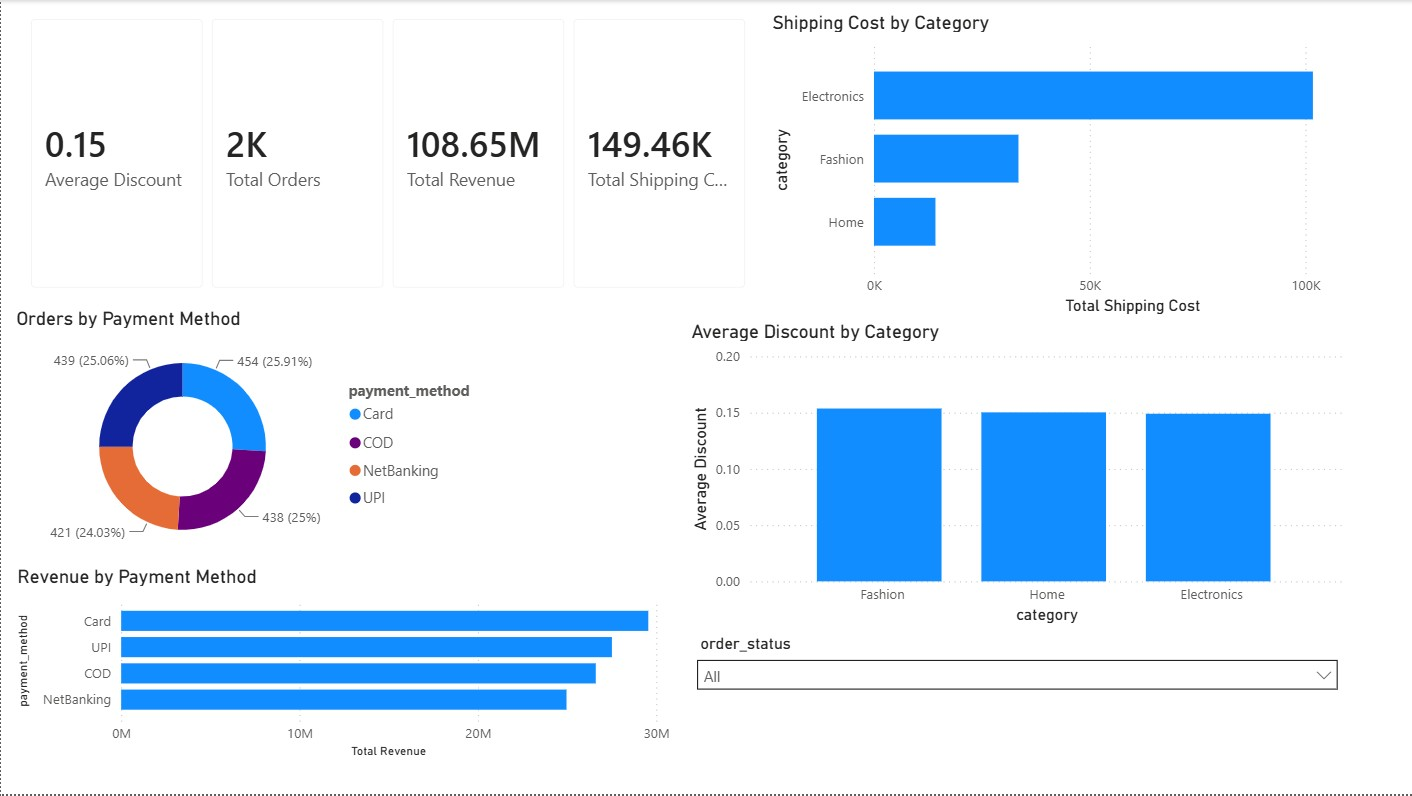

This screenshot's page, from the dashboard's own definition file:
{"tool":"powerbi","page":{"name":"Operations Analysis","canvas":[1280,720],"ordinal":3},"visuals":[{"type":"cardVisual","fields":{"Data":["ecommerce_dw dim_customers.Average Discount","ecommerce_dw dim_customers.Total Orders","ecommerce_dw dim_customers.Total Revenue","ecommerce_dw dim_customers.Total Shipping Cost"]},"box":[9.7,0,684.7,278.2],"z":0},{"type":"donutChart","title":"Orders by Payment Method","fields":{"Y":["ecommerce_dw dim_customers.Total Orders"],"Series":["ecommerce_dw fact_orders.payment_method"]},"box":[9.1,278.4,437.1,234],"z":1},{"type":"clusteredBarChart","title":"Revenue by Payment Method","fields":{"Y":["ecommerce_dw dim_customers.Total Revenue"],"Category":["ecommerce_dw fact_orders.payment_method"]},"box":[10,512.3,601.2,179.5],"z":2},{"type":"clusteredBarChart","title":"Shipping Cost by Category","fields":{"Y":["ecommerce_dw dim_customers.Total Shipping Cost"],"Category":["ecommerce_dw dim_products.category"]},"box":[694.5,9.7,585.5,280.1],"z":3},{"type":"clusteredColumnChart","title":"Average Discount by Category","fields":{"Category":["ecommerce_dw dim_products.category"],"Y":["ecommerce_dw dim_customers.Average Discount"]},"box":[621,290,601,280],"z":4},{"type":"slicer","fields":{"Values":["ecommerce_dw fact_orders.order_status"]},"box":[621,570,601,150],"z":5}]}

Visuals, with their boxes in screenshot pixels (x1, y1, x2, y2), scaled from the page's 1280x720 canvas onto the 1412x796 screenshot:
cardVisual - ecommerce_dw dim_customers.Average Discount x ecommerce_dw dim_customers.Total Orders: rect(11, 0, 766, 308)
"Orders by Payment Method" donutChart: rect(10, 308, 492, 566)
"Revenue by Payment Method" clusteredBarChart: rect(11, 566, 674, 765)
"Shipping Cost by Category" clusteredBarChart: rect(766, 11, 1411, 320)
"Average Discount by Category" clusteredColumnChart: rect(685, 321, 1348, 630)
slicer - ecommerce_dw fact_orders.order_status: rect(685, 630, 1348, 795)
